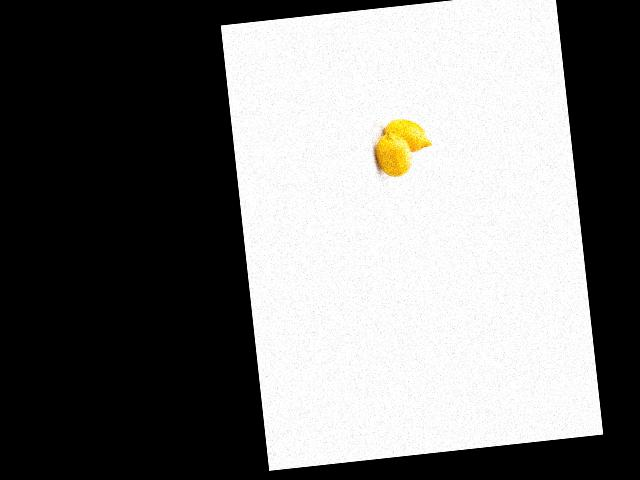lemon: (368, 129, 418, 181)
